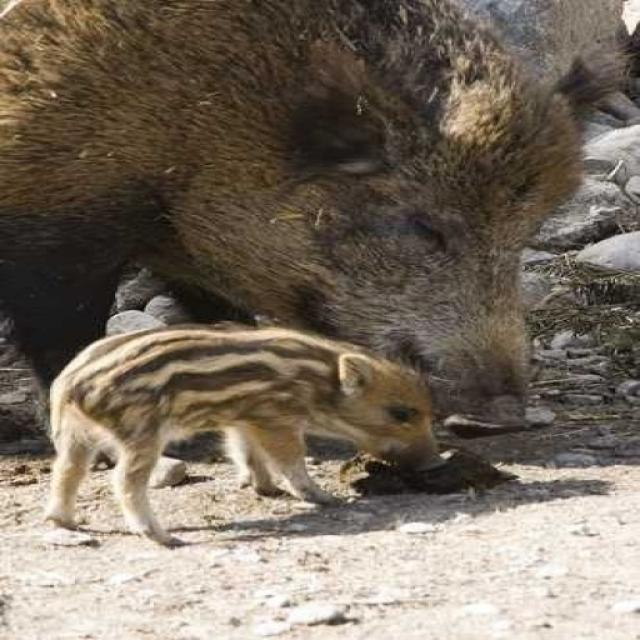pig: (4, 9, 640, 496), (54, 264, 472, 540)
